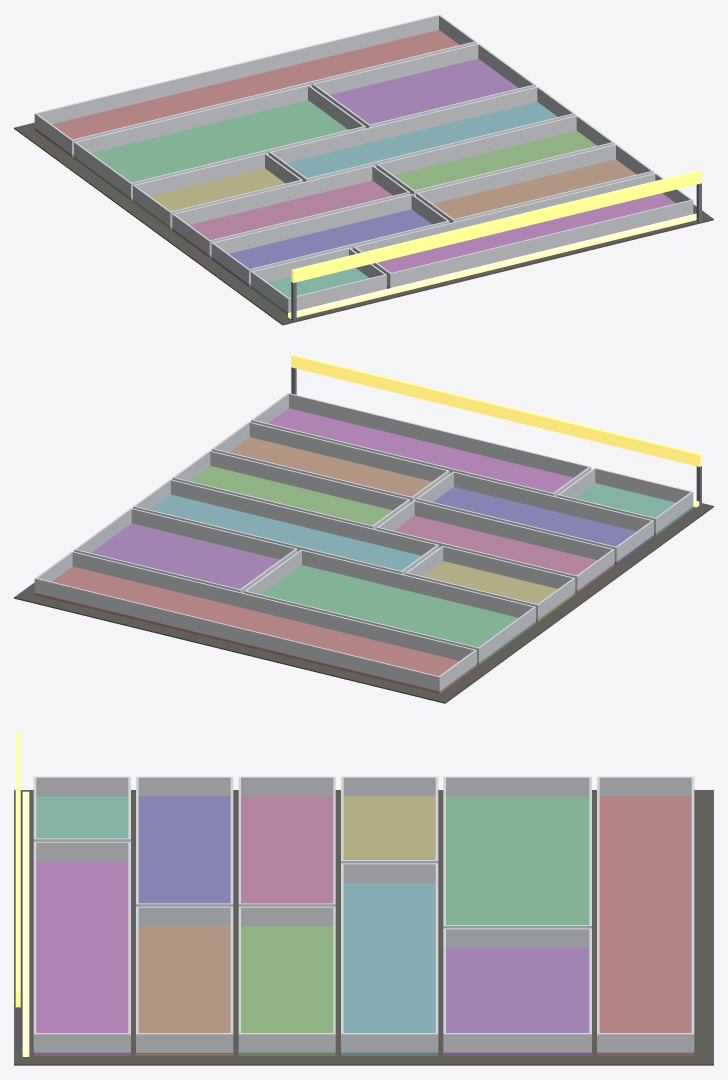
Rendered from hall-gas-distrib.glb.
3 renders of one model, top to bottom at view 1: azimuth 30°, elevation 25°; view 2: azimuth 150°, elevation 25°; view 3: azimuth 270°, elevation 25°, orthographic. The views are drawn at different scales.
Visible parts, largest first — view 1: Gas Distribution Fitters; view 2: Gas Distribution Fitters; view 3: Gas Distribution Fitters.
Boxes of the visible parts, x1=… form: Gas Distribution Fitters: x1=14, y1=14, x2=713, y2=325; Gas Distribution Fitters: x1=14, y1=354, x2=713, y2=703; Gas Distribution Fitters: x1=14, y1=732, x2=713, y2=1065.
Size of the model in its own units: 38 by 4.3 by 41.
